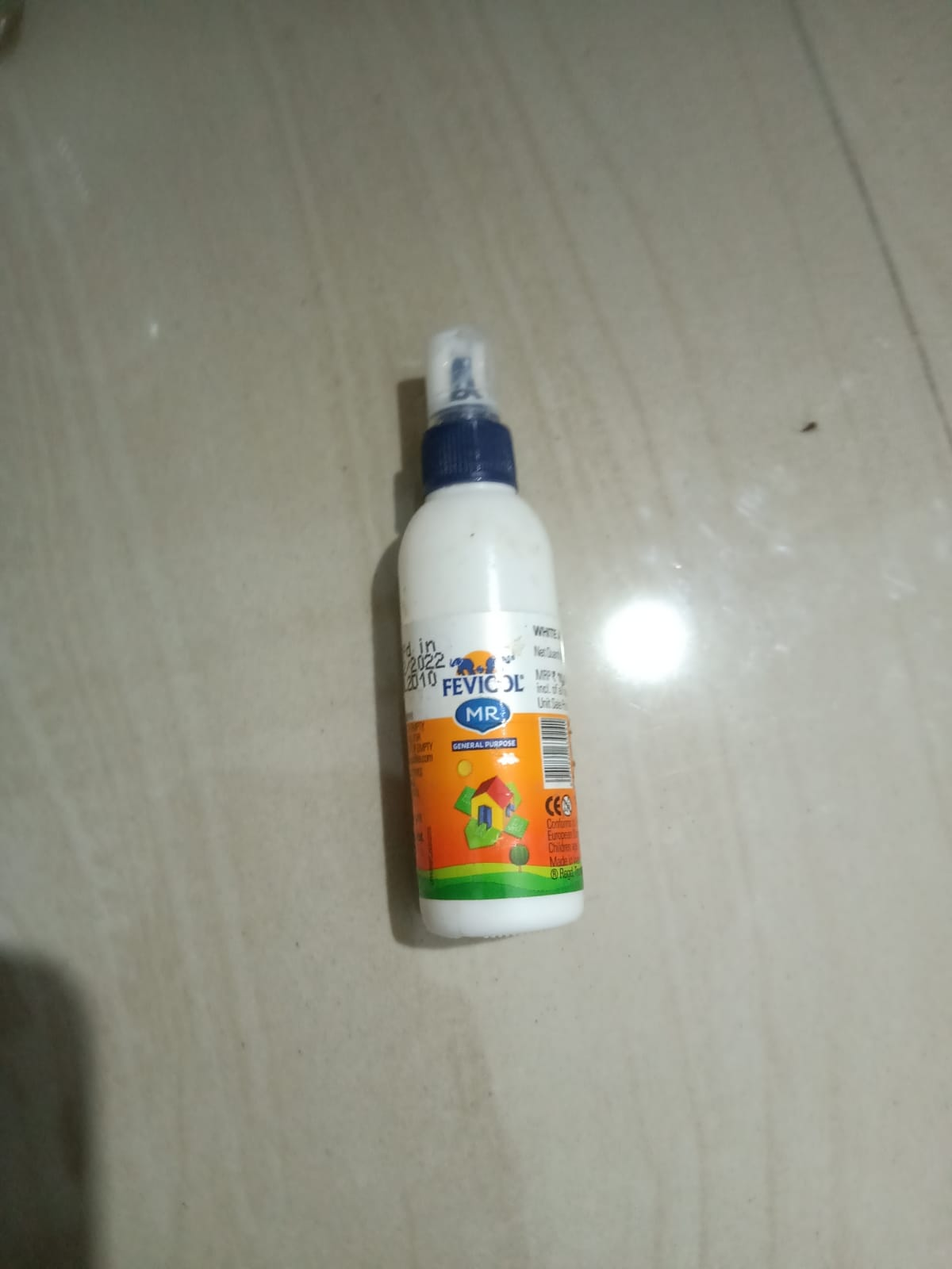plastic: (265, 307, 678, 1253)
